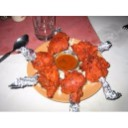chicken_lollipop: (79, 56, 128, 102), (9, 70, 60, 101), (16, 44, 58, 74), (60, 71, 85, 112), (73, 39, 112, 61)
